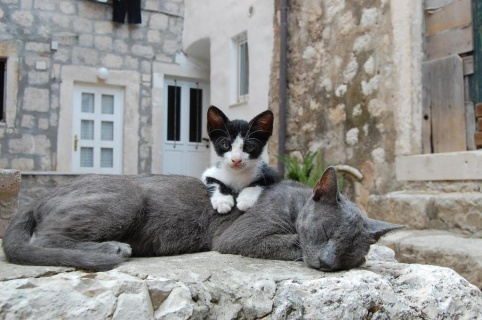Cat: (4, 173, 407, 269), (199, 103, 284, 216)
